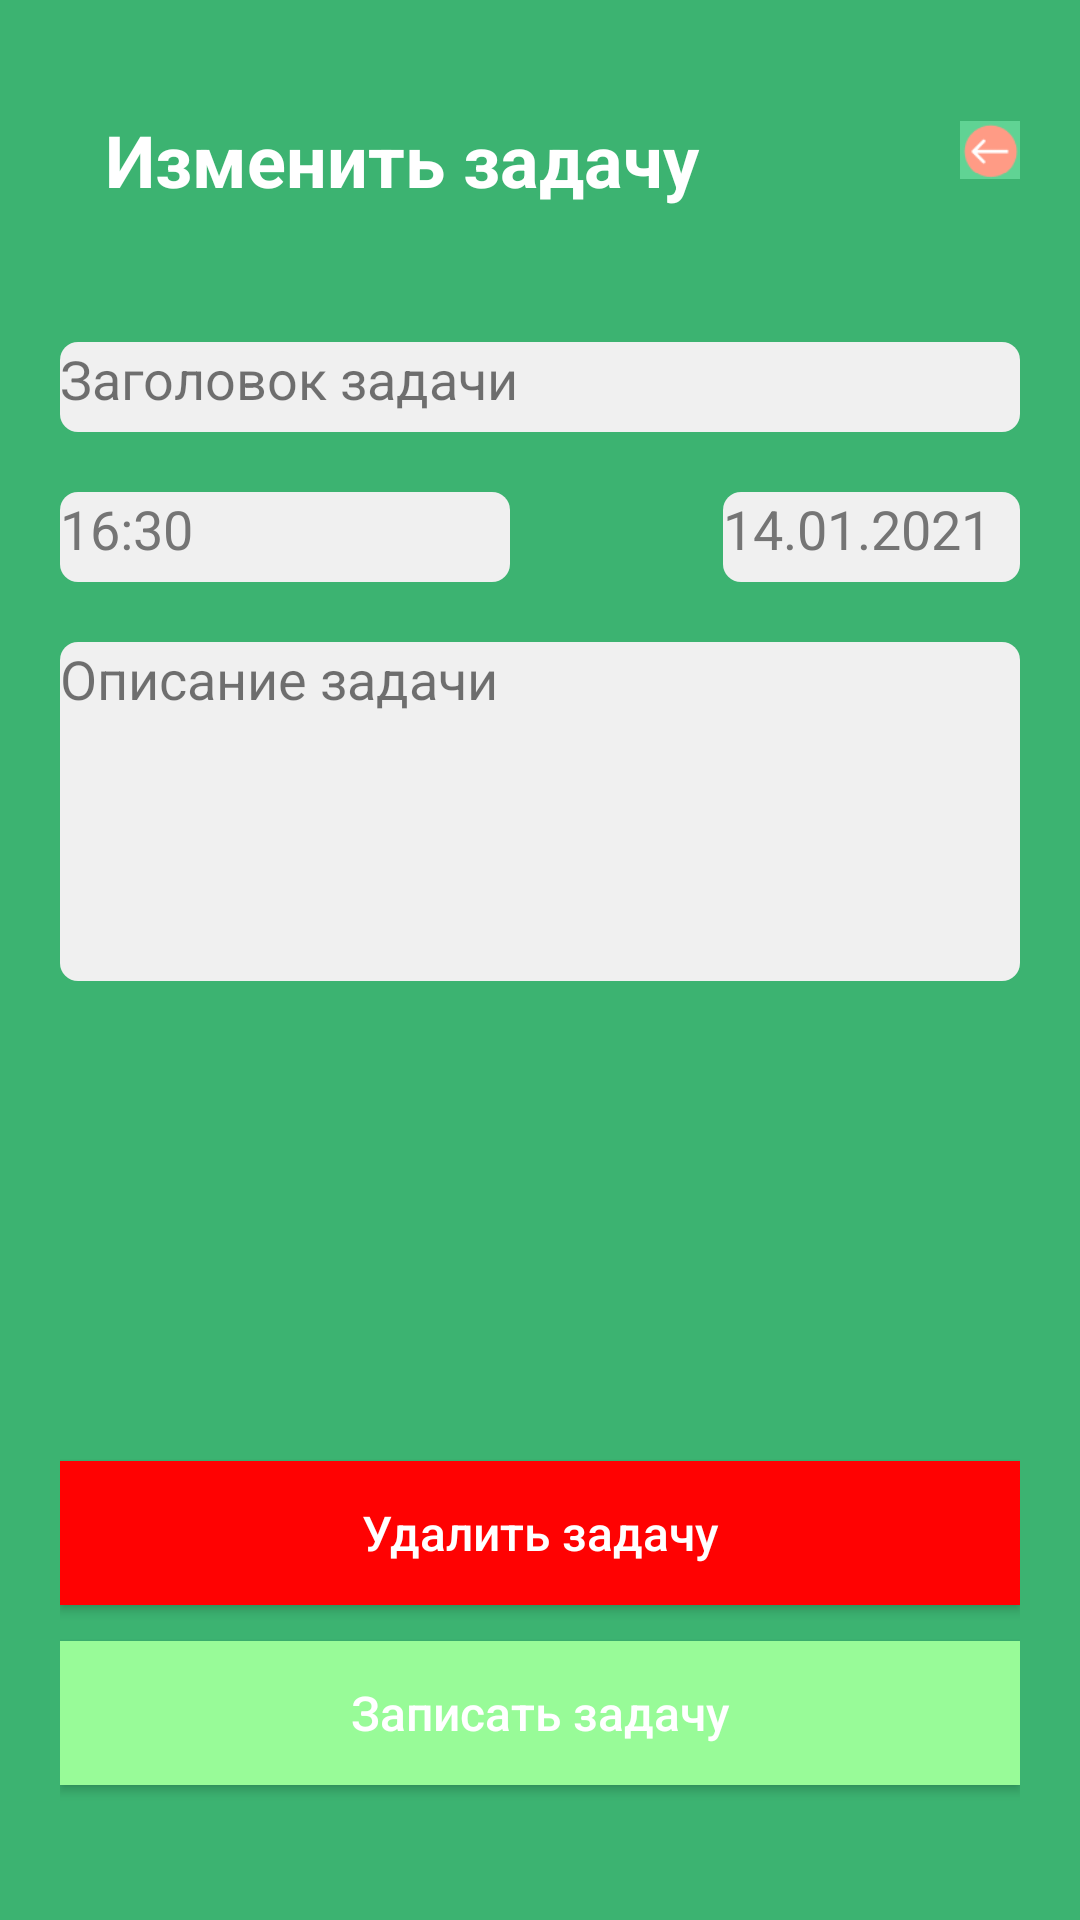

Icon bounding boxes for this 1080×1920 phone screenshot, format (x1, y1, x2, y2):
arrow: (960, 121, 1020, 179)
